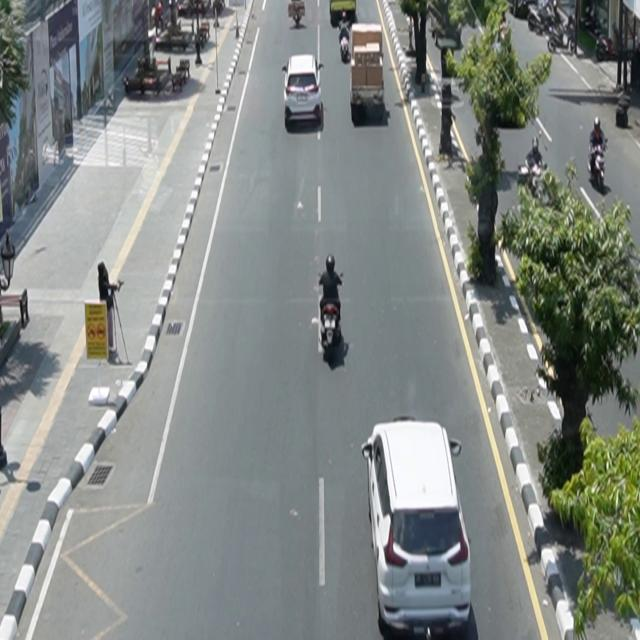car: (362, 417, 473, 640), (283, 54, 325, 128)
